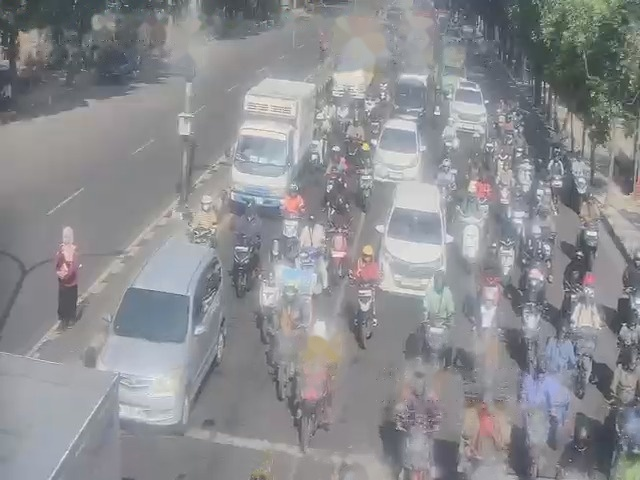Bis: (394, 59, 432, 121)
Mobil: (103, 222, 215, 432), (385, 181, 446, 291), (376, 112, 417, 183)
Motor: (395, 359, 441, 479), (567, 273, 603, 398), (297, 369, 327, 451), (283, 252, 309, 329), (416, 315, 446, 367), (507, 301, 531, 365), (615, 400, 640, 457), (231, 236, 254, 297), (260, 264, 279, 334), (276, 333, 295, 400), (357, 278, 373, 347), (571, 158, 590, 212), (486, 232, 506, 282), (579, 223, 598, 269), (480, 285, 499, 328), (331, 225, 347, 276), (493, 237, 510, 284), (534, 226, 550, 264), (462, 220, 477, 260), (444, 166, 458, 199), (627, 285, 639, 323), (528, 268, 543, 298), (310, 137, 323, 169), (358, 168, 368, 208), (326, 165, 336, 201), (536, 180, 546, 215), (498, 155, 508, 185), (519, 172, 530, 199), (358, 138, 367, 162), (481, 179, 488, 202), (554, 175, 563, 189)
Truk: (230, 78, 316, 210)
